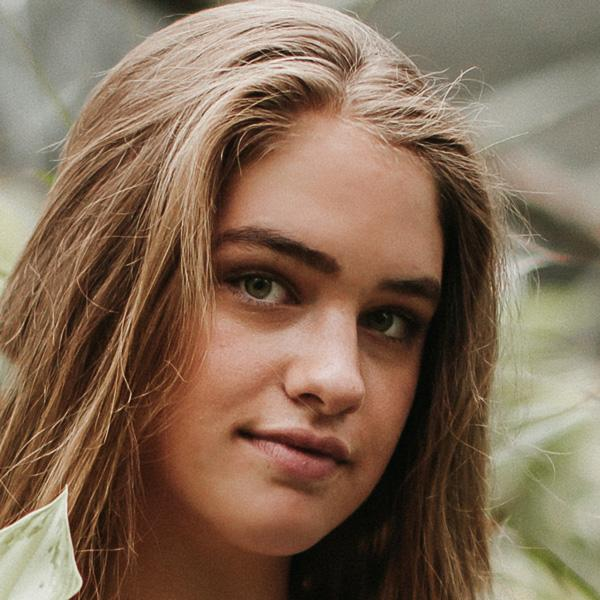Eyes: (212, 252, 306, 318), (348, 292, 424, 351)
